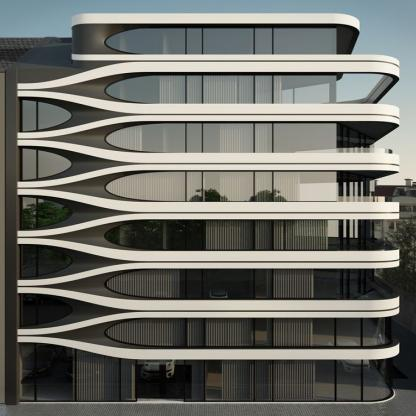Balcony: (341, 276, 400, 304), (336, 148, 399, 159), (337, 196, 399, 207)
Building Outline: (6, 13, 400, 405)
Door: (137, 365, 191, 400)
Facade: (2, 13, 401, 405)
Glass Wall: (137, 357, 394, 402), (106, 316, 392, 346), (105, 269, 341, 299), (18, 342, 136, 402), (106, 220, 339, 250), (106, 171, 337, 201), (106, 123, 336, 153), (106, 75, 336, 103), (106, 28, 336, 55), (22, 149, 72, 180), (22, 295, 72, 326), (22, 100, 72, 131), (22, 197, 72, 228), (23, 246, 72, 277), (336, 123, 374, 156), (341, 268, 375, 304), (336, 171, 375, 202), (339, 219, 375, 250)
